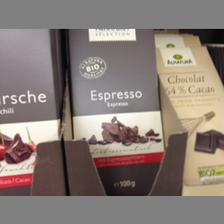chocolate: (68, 30, 170, 193), (155, 46, 222, 195), (1, 30, 59, 188)
